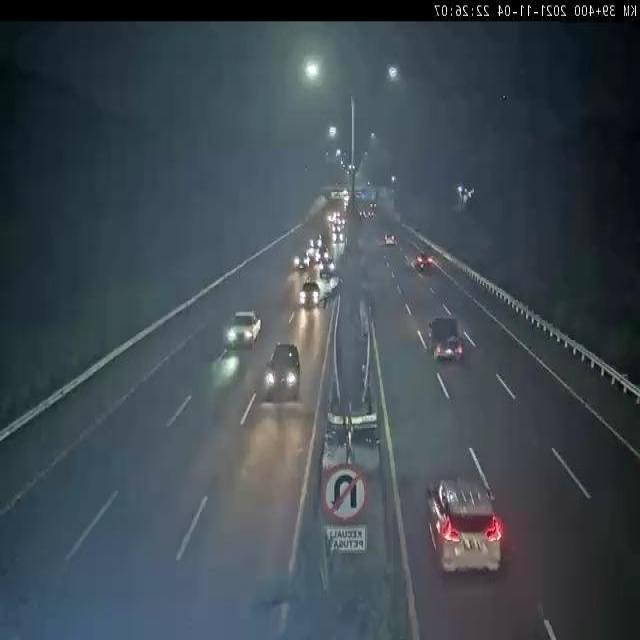Car: (423, 480, 511, 579), (257, 338, 305, 408), (223, 306, 269, 356), (292, 280, 325, 312), (412, 247, 437, 280), (379, 226, 404, 250), (293, 252, 313, 274)
Truck: (426, 312, 466, 367)
